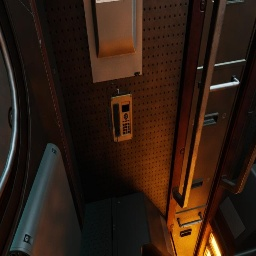EmergencyPhone ,: (106, 83, 132, 143)
SafetySwitchPanel ,: (83, 0, 146, 83)
